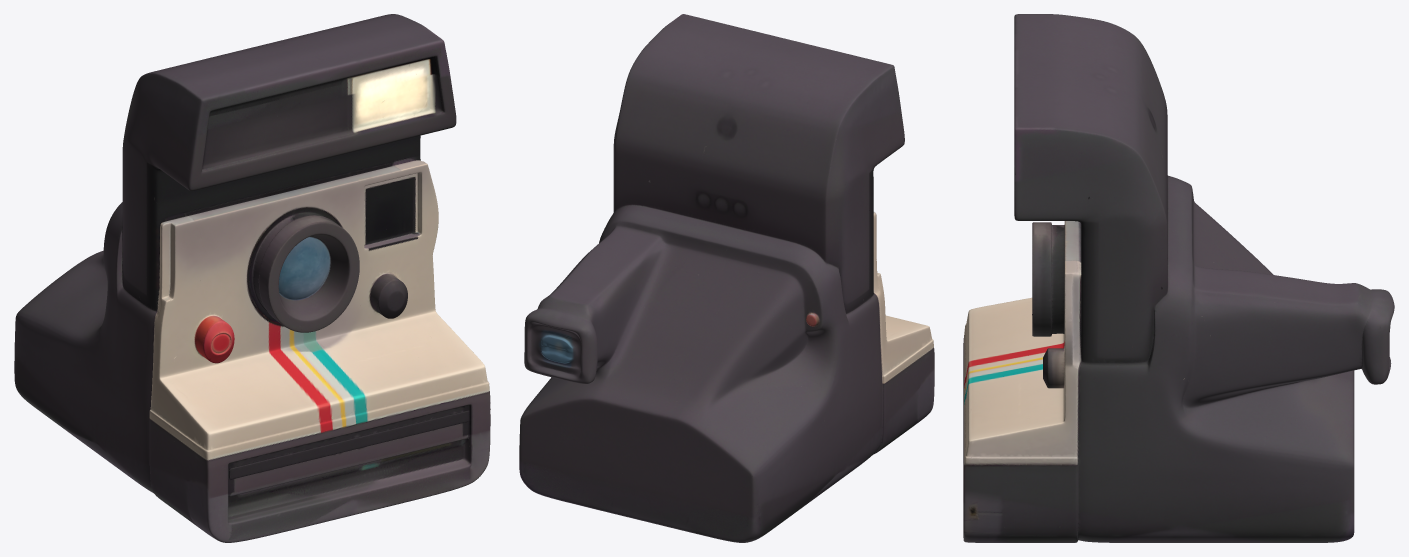
The model's file is accessories_set_3_item_22.glb.
3 views of the same model, side by side, from view 1: azimuth 30°, elevation 25°; view 2: azimuth 150°, elevation 25°; view 3: azimuth 270°, elevation 25° (orthographic). The views are drawn at different scales.
Size of the model in its own units: 1.32 by 1.9 by 1.78.
Materials: 1 (1 with a texture image).
